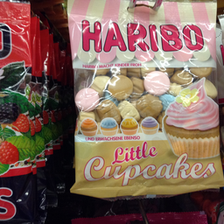candy: (70, 1, 224, 195)
